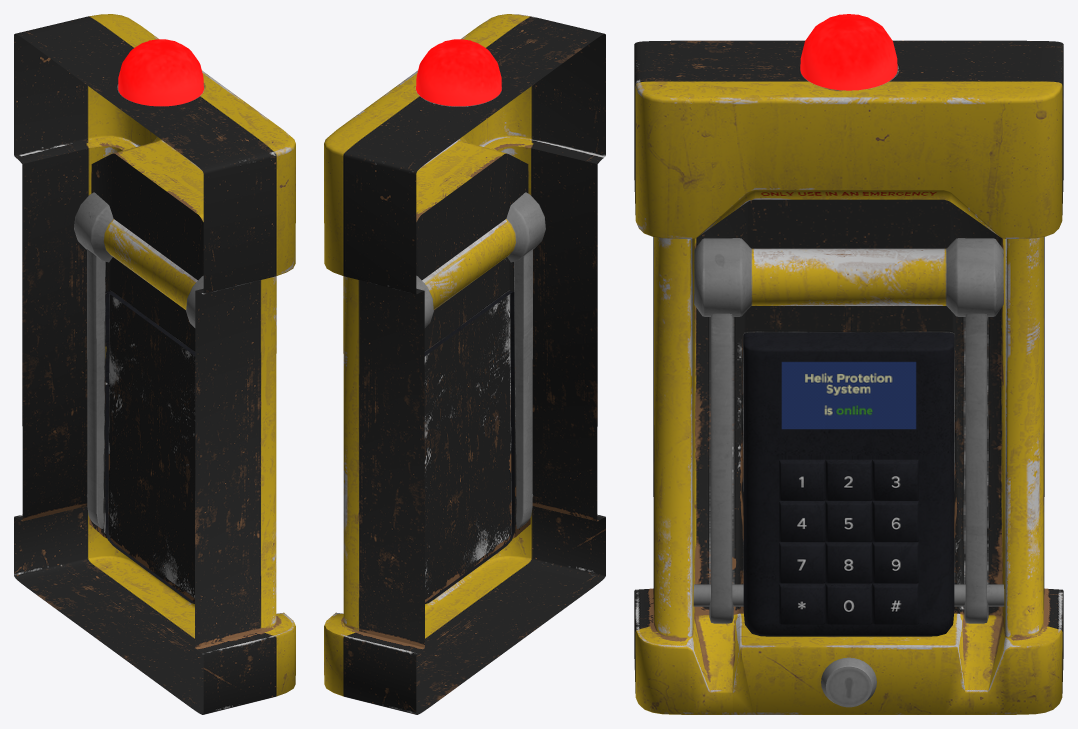
File: emergency_panel_with_lever(to edit texwture).glb
3 views of the same model, side by side, from view 1: azimuth 30°, elevation 25°; view 2: azimuth 150°, elevation 25°; view 3: azimuth 270°, elevation 25° (orthographic). The views are drawn at different scales.
Parts seen in each view (by area): view 1: EmergencyPanel, EmergencyPanelLever; view 2: EmergencyPanel, EmergencyPanelLever; view 3: EmergencyPanel, EmergencyPanelLever.
Boxes of the visible parts, <box> form: EmergencyPanel: <box>14,14,295,714</box>; EmergencyPanelLever: <box>74,192,203,528</box>; EmergencyPanel: <box>324,14,605,714</box>; EmergencyPanelLever: <box>416,192,545,528</box>; EmergencyPanel: <box>634,14,1063,714</box>; EmergencyPanelLever: <box>693,238,1004,623</box>.
Size of the model in its own units: 0.0758 by 0.3782 by 0.22.
1 material, 1 textured.
